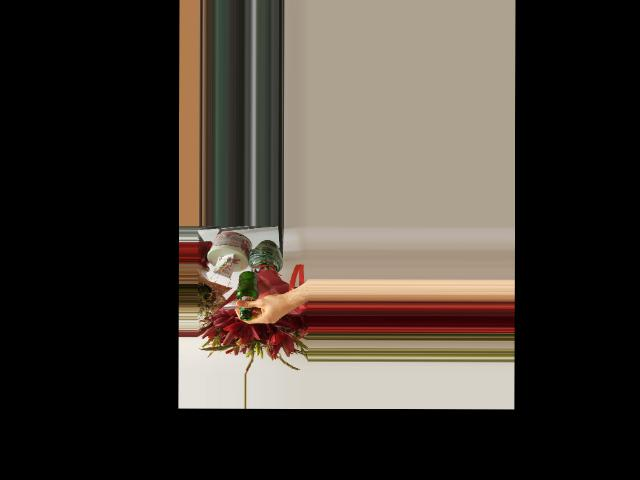beer: (235, 270, 258, 320)
